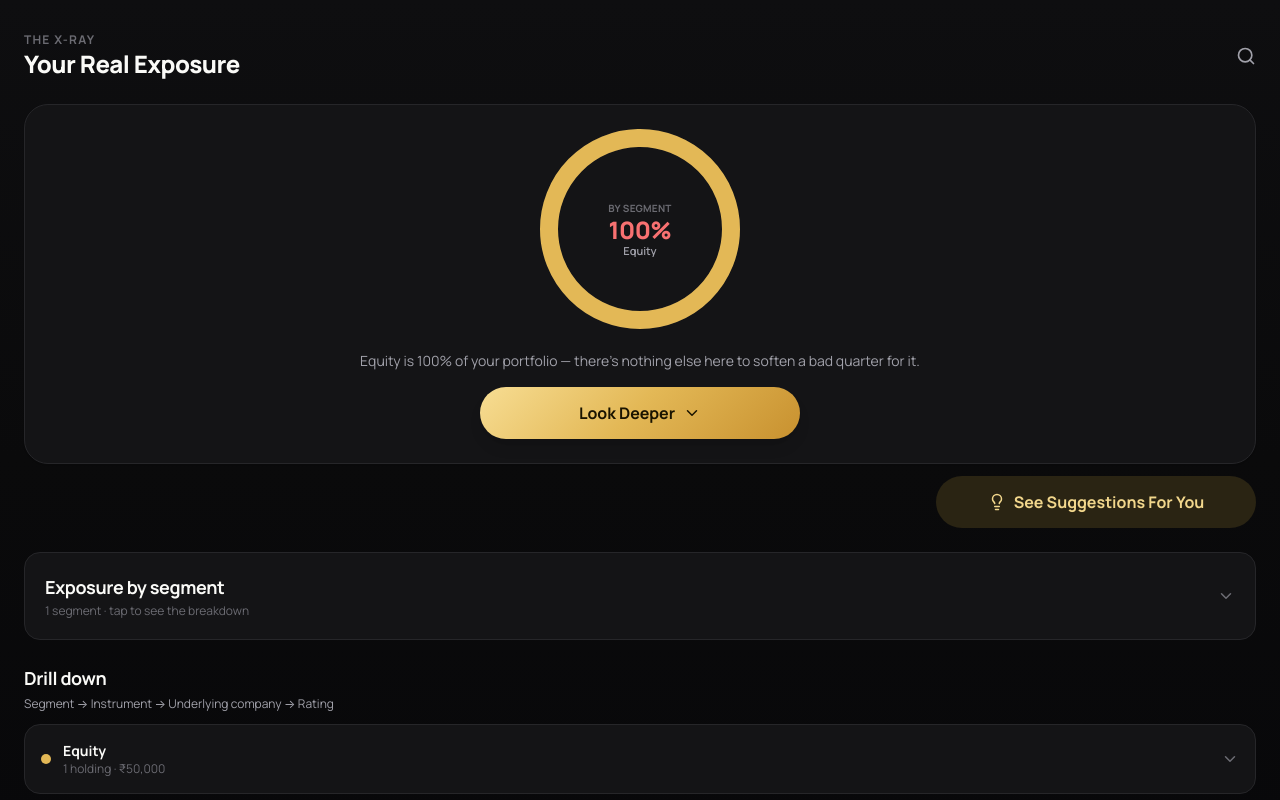
XRay — surfaces real backend-detected overlaps the by-name donut can't see › shows the real connection reason/strength in the deep view when the backend detected one
Click the button with test id "xray-look-deeper-btn" at {"x": 640, "y": 413}, box [480,387,800,439]
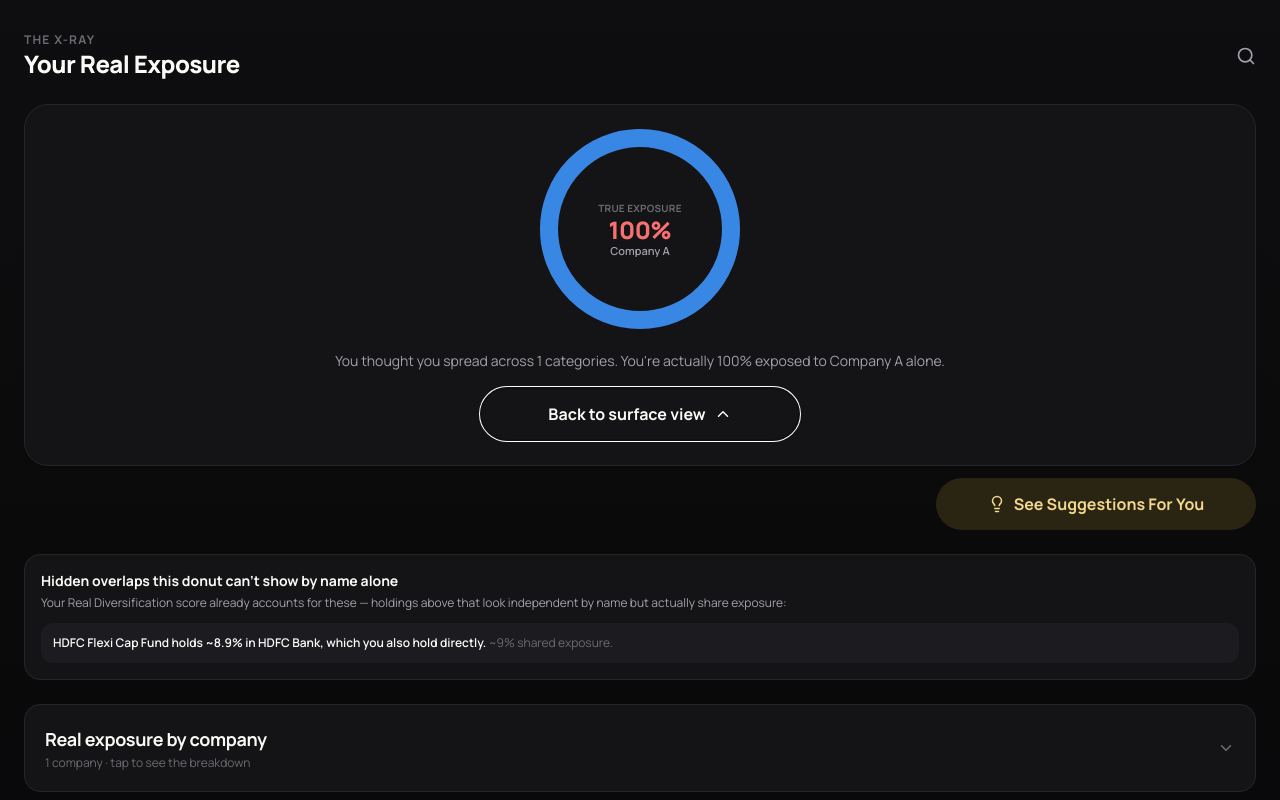
Expected: the element with test id "xray-real-overlaps" is shown, [24,554,1256,680]
Expected: the element with test id "xray-overlap-0" shows "HDFC Flexi Cap Fund holds ~8.9% in HDFC Bank", [53,634,483,651]
Expected: the element with test id "xray-overlap-0" shows "9% shared exposure", [41,623,1239,663]
